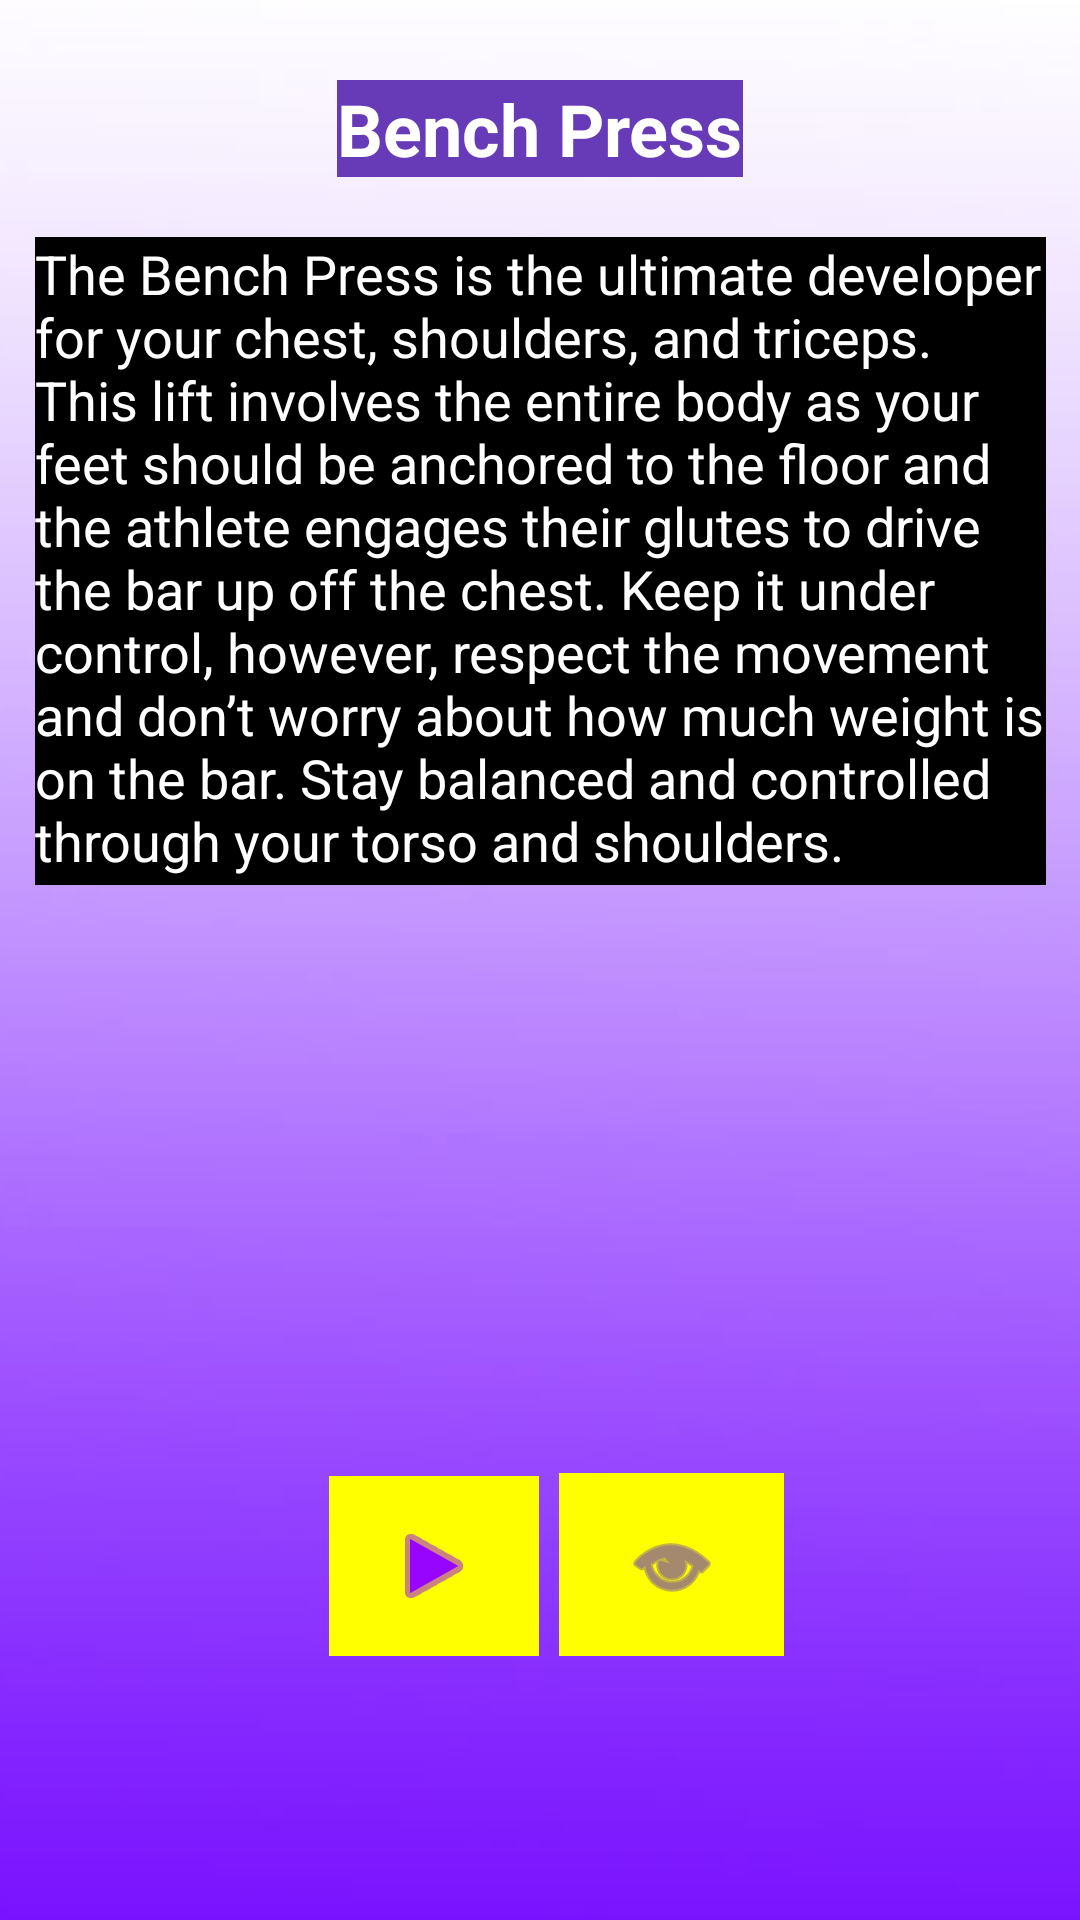

Named icons in this screenshot (1080 x 1920) and their bounding boxes, (x1, y1, x2, y2):
play: (329, 1476, 539, 1656)
view: (559, 1473, 784, 1656)
